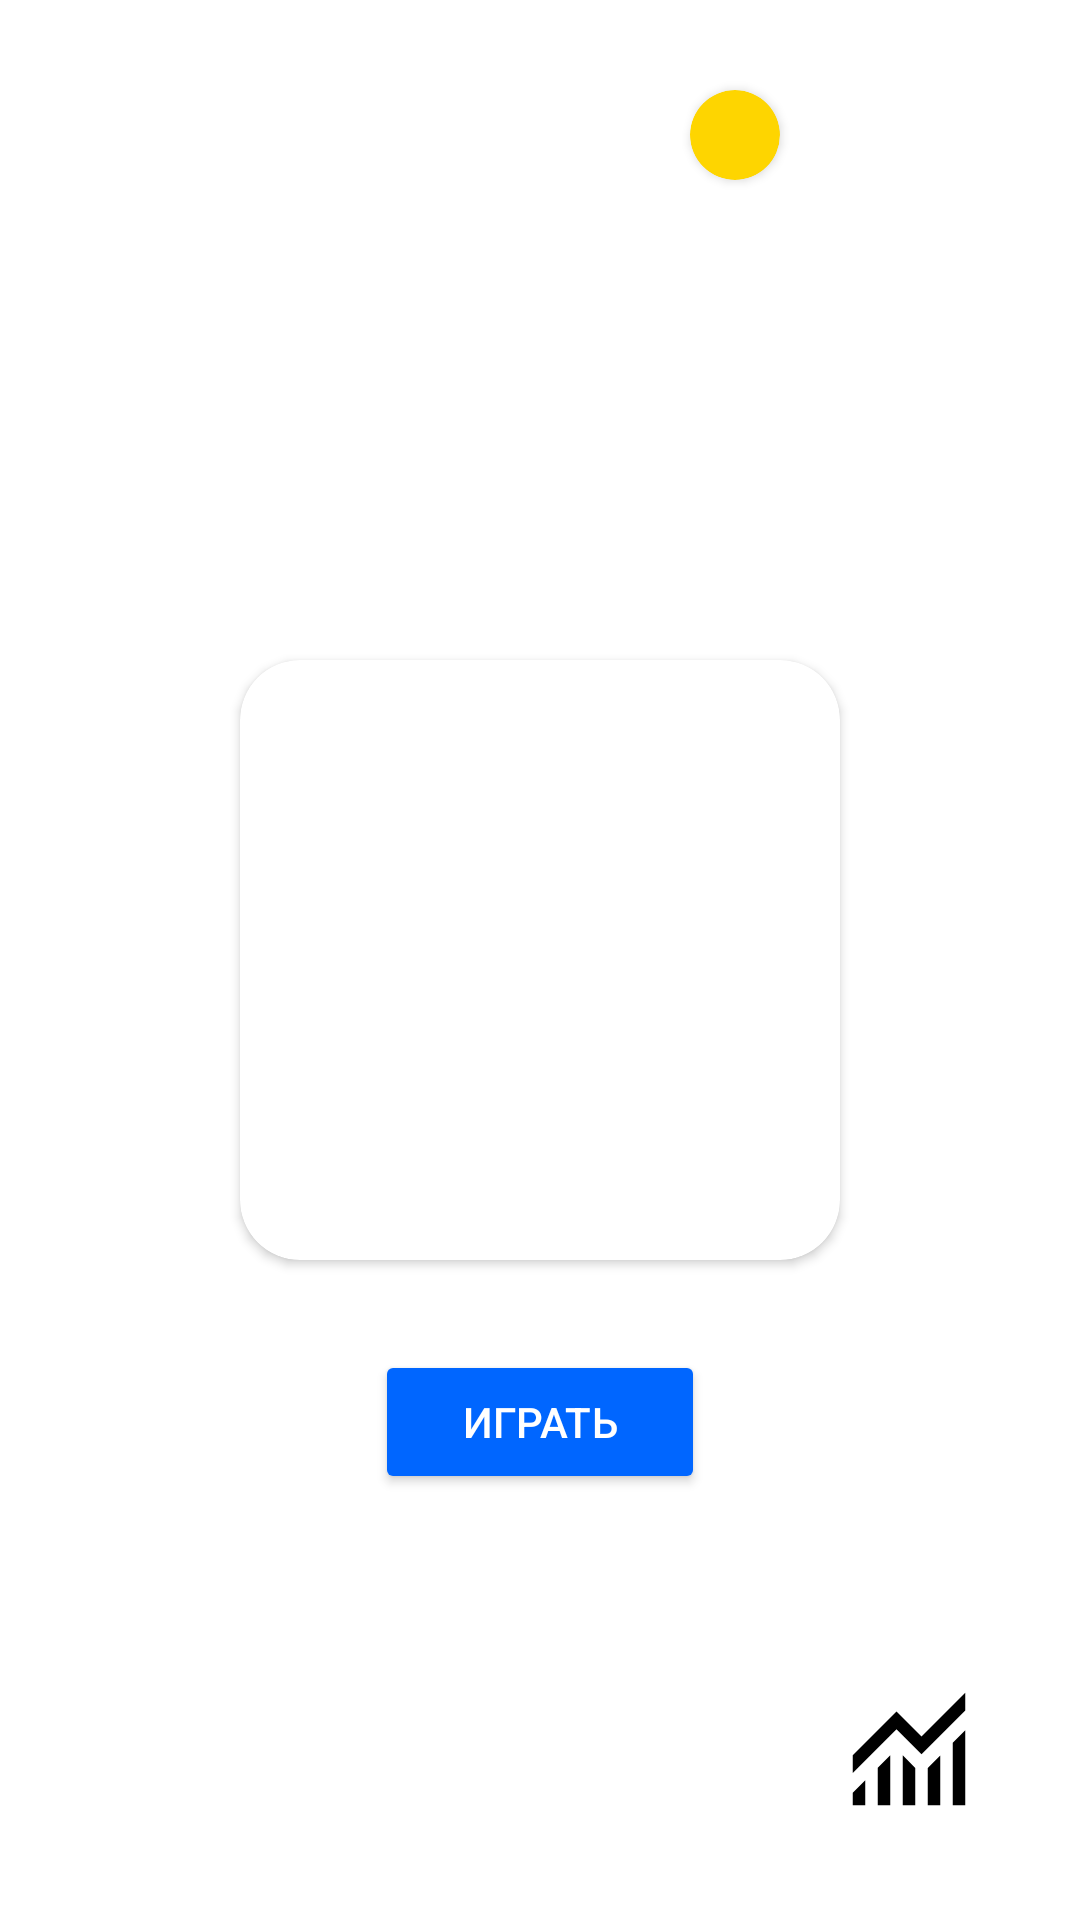

Icon click points for this 1080px×1920px phone screenshot, format (x,y):
Статистика: (909,1749)
